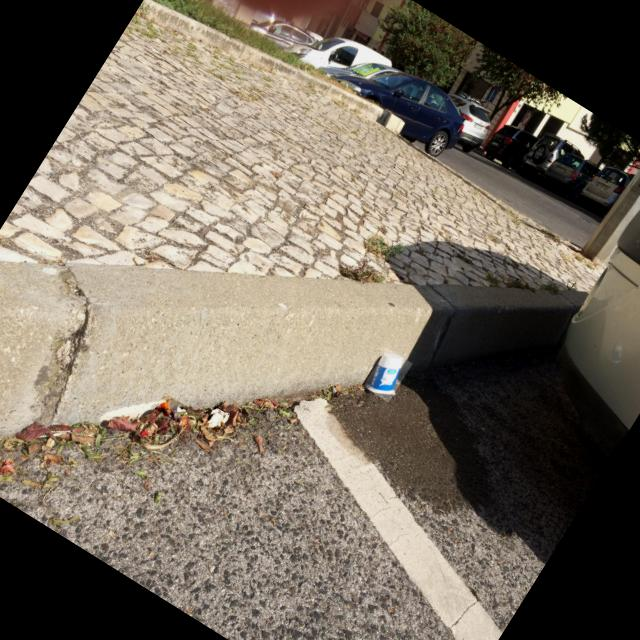Other container: (367, 355, 402, 395)
Paper bag: (208, 409, 228, 430)
Plastic film: (154, 398, 180, 421)
